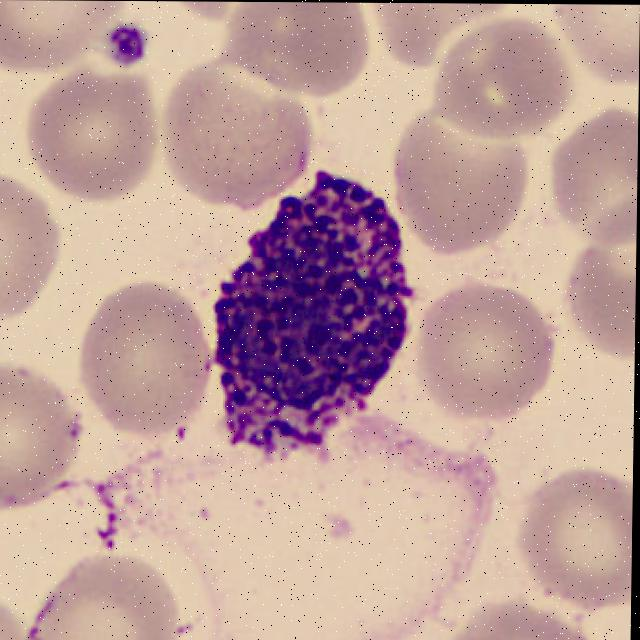basophil: (209, 181, 414, 457)
platelets: (106, 16, 151, 76)
rbc: (77, 278, 226, 437), (151, 77, 322, 207), (31, 72, 177, 220), (418, 291, 566, 427), (404, 26, 573, 145), (509, 451, 633, 605), (405, 111, 525, 261), (0, 354, 86, 521), (21, 550, 177, 640), (222, 2, 372, 88), (548, 109, 638, 246), (0, 174, 66, 346), (0, 0, 125, 86), (566, 243, 636, 382), (374, 3, 507, 71), (561, 4, 640, 105), (458, 605, 602, 640)
